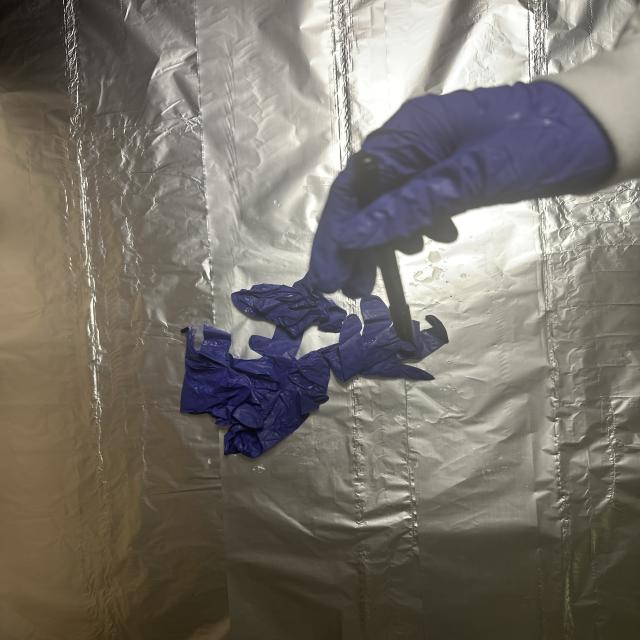gloves_contaminated: (310, 81, 615, 293)
